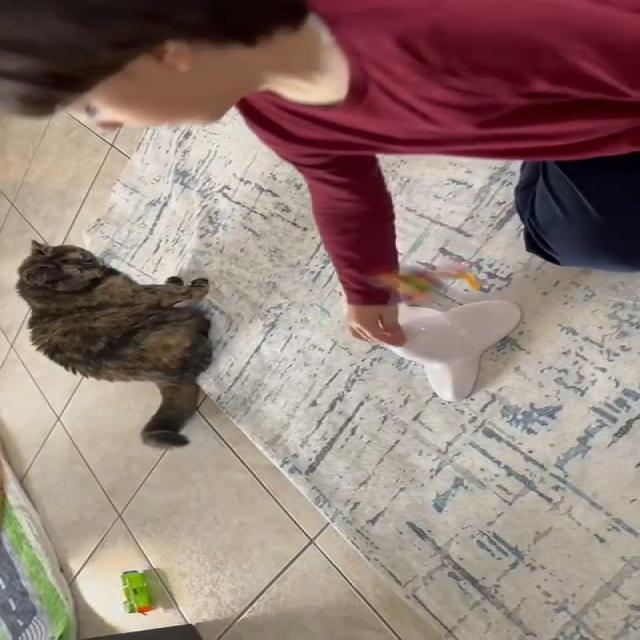authorized: (13, 238, 215, 448)
